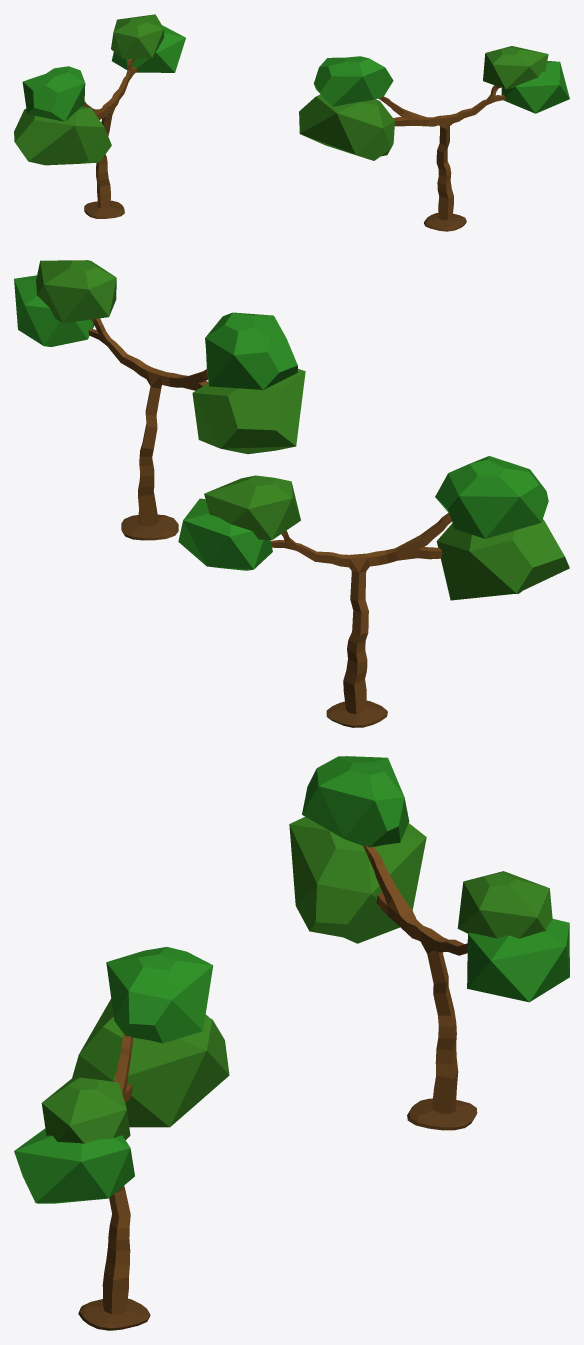
Rendered from arbre2.obj.
The picture shows the model from 3 angles, top to bottom: view 1: azimuth 30°, elevation 25°; view 2: azimuth 150°, elevation 25°; view 3: azimuth 270°, elevation 25°; orthographic projection. The views are drawn at different scales.
Visible parts, largest first — view 1: arbre2.1; view 2: arbre2.1; view 3: arbre2.1.
Boxes of the visible parts, bbox=[...] form: arbre2.1: bbox=[14, 14, 569, 231]; arbre2.1: bbox=[14, 260, 569, 727]; arbre2.1: bbox=[14, 756, 569, 1330].
Bounding box in the file's own units: 15.16 × 5.44 × 9.32.
